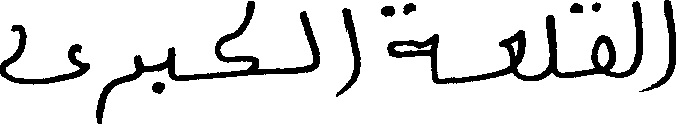ا: (340, 5, 361, 94), (661, 0, 674, 85)
ب: (150, 45, 176, 95)
ة: (385, 0, 436, 83)
ر: (95, 52, 144, 121)
ع: (496, 27, 526, 81)
ق: (565, 0, 616, 78)
ك: (212, 0, 259, 79)
ل: (298, 8, 322, 73), (630, 0, 643, 93), (543, 12, 559, 79)
ى: (0, 22, 89, 85)
